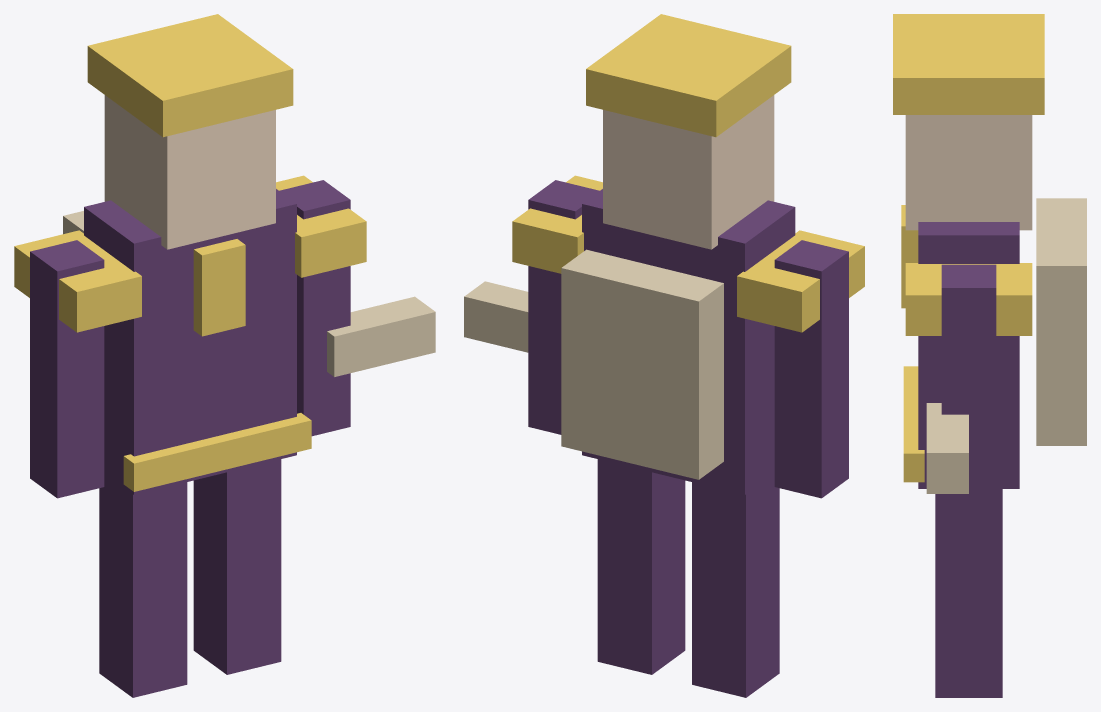
Rendered from 01_soren_deepwell_herald_at_agri_domes.glb.
3 views of the same model, side by side, from view 1: azimuth 30°, elevation 25°; view 2: azimuth 150°, elevation 25°; view 3: azimuth 270°, elevation 25° (orthographic).
Visible parts, largest first — view 1: Soren Deepwell, Herald at Agri-Domes; view 2: Soren Deepwell, Herald at Agri-Domes; view 3: Soren Deepwell, Herald at Agri-Domes.
Boxes of the visible parts, box(x1,y1,x2,y2) form: Soren Deepwell, Herald at Agri-Domes: box(14, 14, 435, 697); Soren Deepwell, Herald at Agri-Domes: box(464, 14, 864, 697); Soren Deepwell, Herald at Agri-Domes: box(893, 14, 1086, 697).
Size of the model in its own units: 1.06 by 1.67 by 0.4764.
